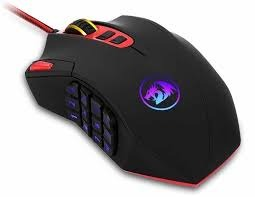mouse: (21, 9, 241, 188)
